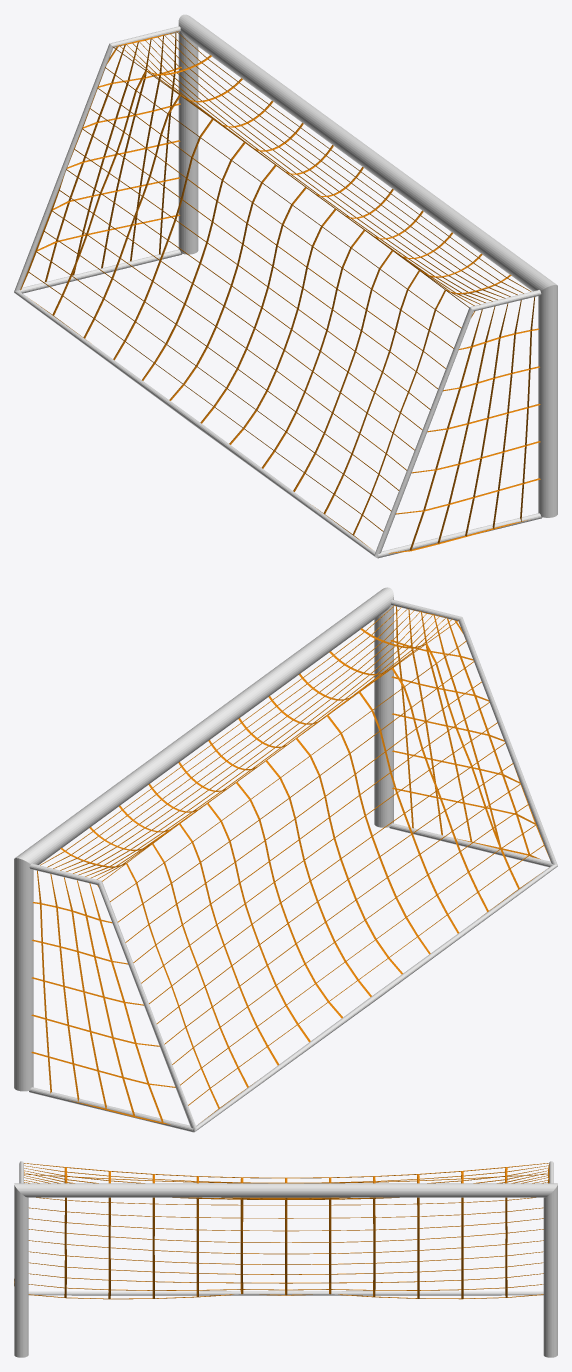
The model's file is goal.glb.
3 views of the same model, one above another, from view 1: azimuth 30°, elevation 25°; view 2: azimuth 150°, elevation 25°; view 3: azimuth 270°, elevation 25° (orthographic). The views are drawn at different scales.
Parts seen in each view (by area): view 1: Cube, Cylinder, Plane; view 2: Cube, Cylinder, Plane; view 3: Cube, Cylinder, Plane.
Boxes of the visible parts, x1,y1,x2,y2 form: Cube: (20, 31, 540, 553); Cylinder: (178, 14, 557, 517); Plane: (14, 26, 542, 558); Cube: (31, 605, 548, 1124); Cylinder: (14, 587, 393, 1091); Plane: (29, 599, 557, 1132); Cube: (14, 1163, 549, 1299); Cylinder: (14, 1183, 557, 1357); Plane: (19, 1161, 553, 1295).
Bounding box in the file's own units: 2.13 × 2.65 × 7.51.
